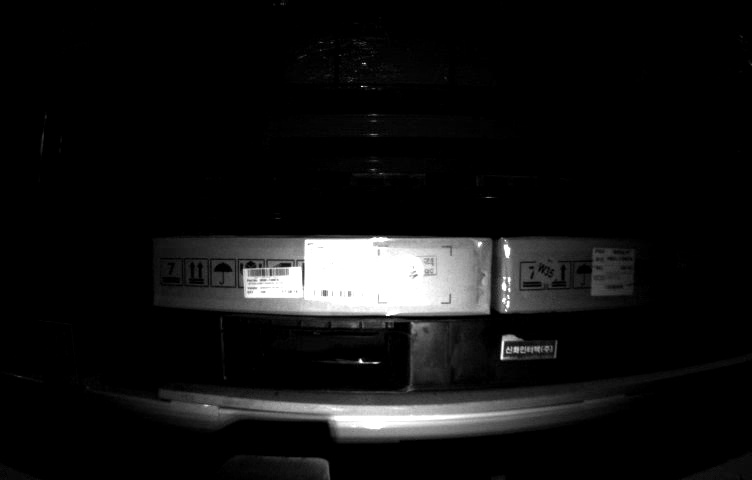True Barcode: (586, 244, 640, 298)
